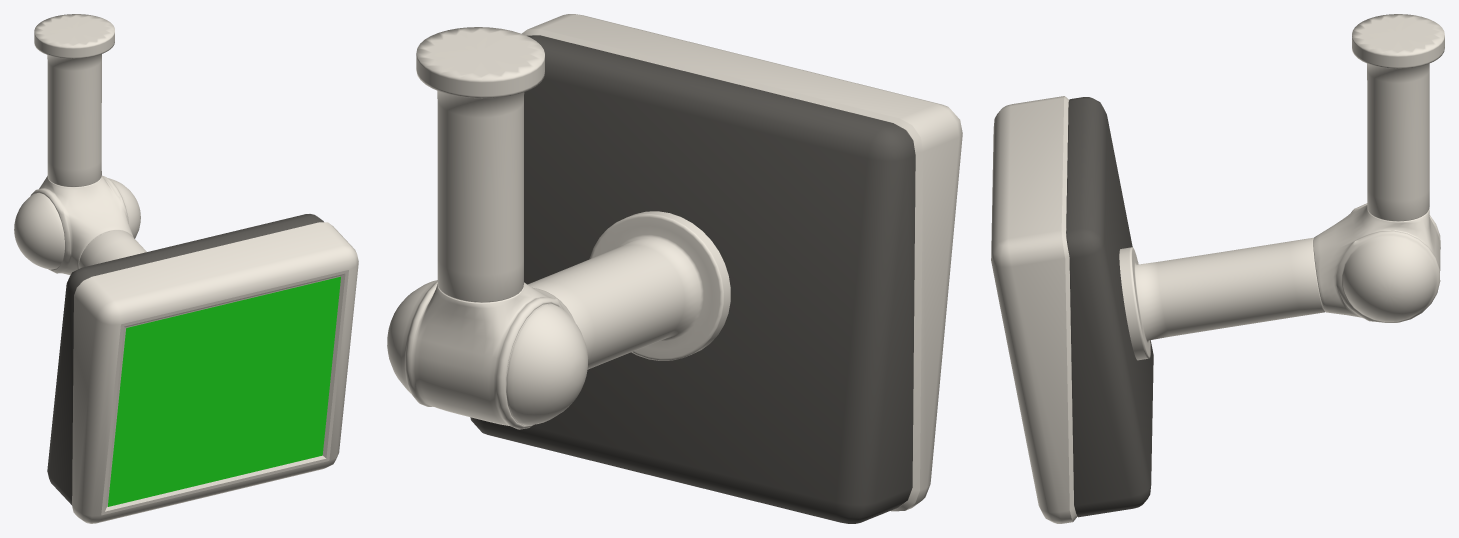
The model's file is Institute_HDScreen_Final.FBX.
3 renders of one model, left to right at view 1: azimuth 30°, elevation 25°; view 2: azimuth 150°, elevation 25°; view 3: azimuth 270°, elevation 25°, orthographic. The views are drawn at different scales.
Visible parts, largest first — view 1: Support; view 2: Support; view 3: Support.
Part boxes in pixels (x1,y1,x2,y2): Support: (14,14,358,523); Support: (387,14,962,523); Support: (991,14,1444,523).
Bounding box in the file's own units: 146 × 193 × 185.
